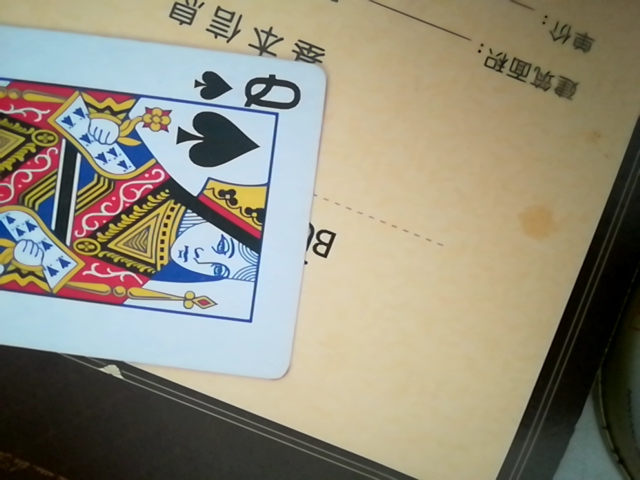ht q: (0, 4, 331, 374)
